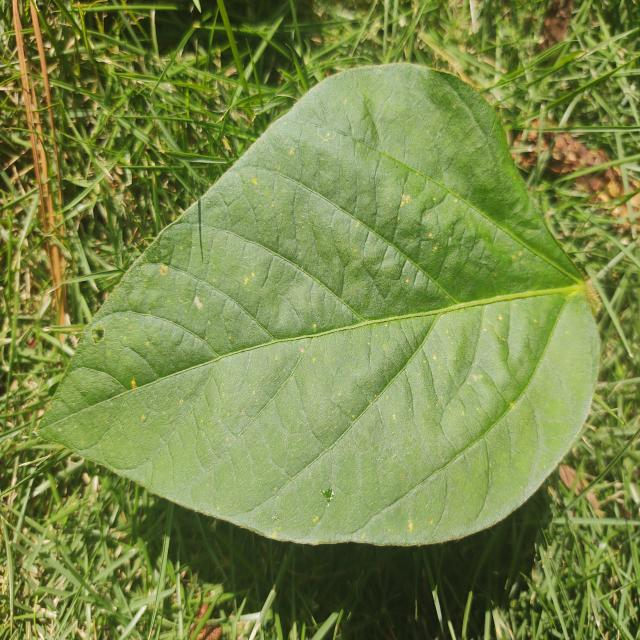Soybean: (40, 62, 602, 590)
downey_mildew: (39, 225, 339, 480), (333, 91, 456, 316), (217, 77, 352, 256), (91, 254, 290, 369), (448, 293, 571, 473), (312, 311, 422, 462), (433, 187, 572, 305), (191, 226, 326, 344), (58, 313, 222, 403), (186, 338, 302, 455), (244, 430, 351, 542), (416, 302, 493, 448), (268, 152, 358, 255), (372, 452, 453, 544), (353, 131, 450, 206), (43, 366, 129, 425), (393, 187, 445, 280), (433, 438, 487, 525)
